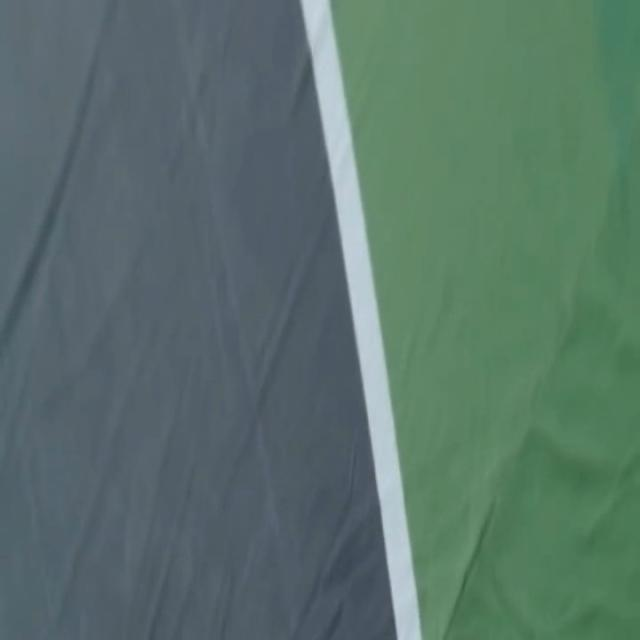right: (300, 0, 421, 639)
